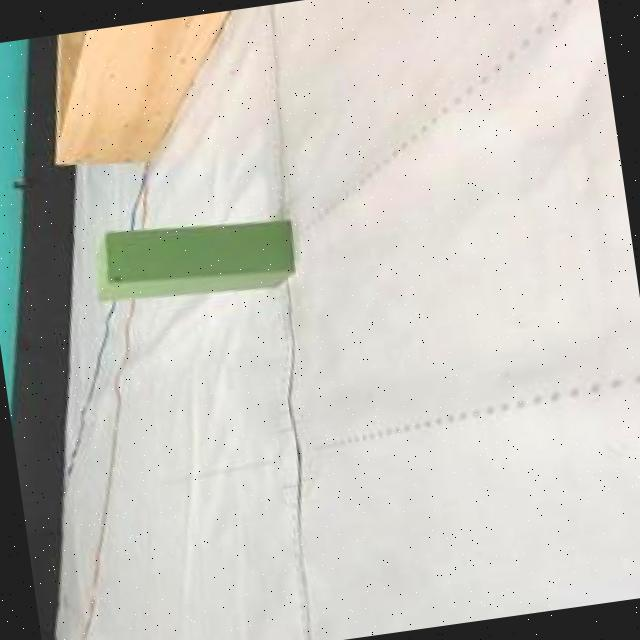greenbox: (85, 200, 298, 306)
